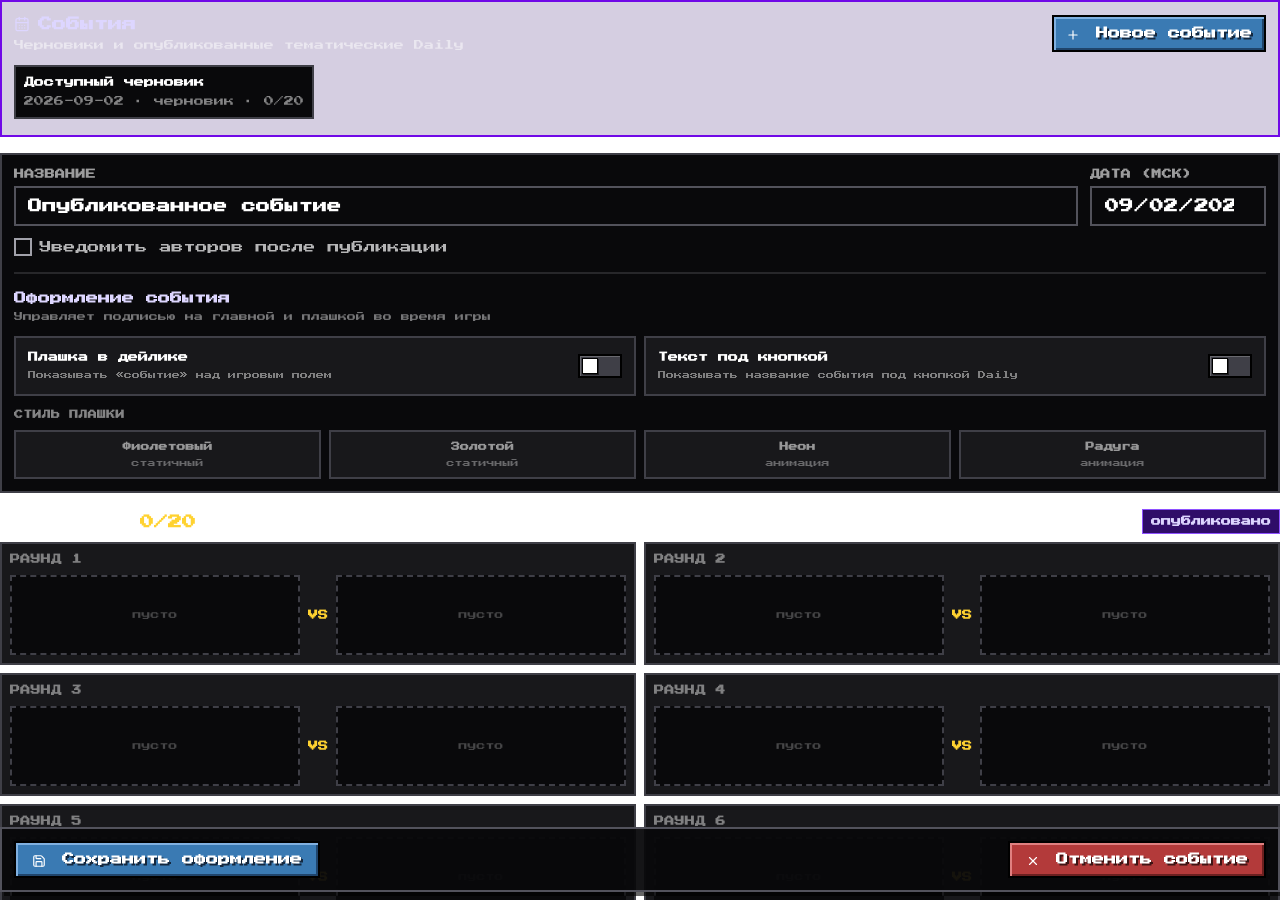
CustomDailyBuilder › keeps a bulk selection pending until a read-only event is replaced by a draft
Expected: the field showing "Опубликованное событие" is shown, x1=14 y1=186 x2=1078 y2=226
Expected: the text "Альфа" is not shown
Click the button "Доступный черновик 2026-09-02 · черновик · 0/20": (114, 82) x1=14 y1=65 x2=314 y2=119
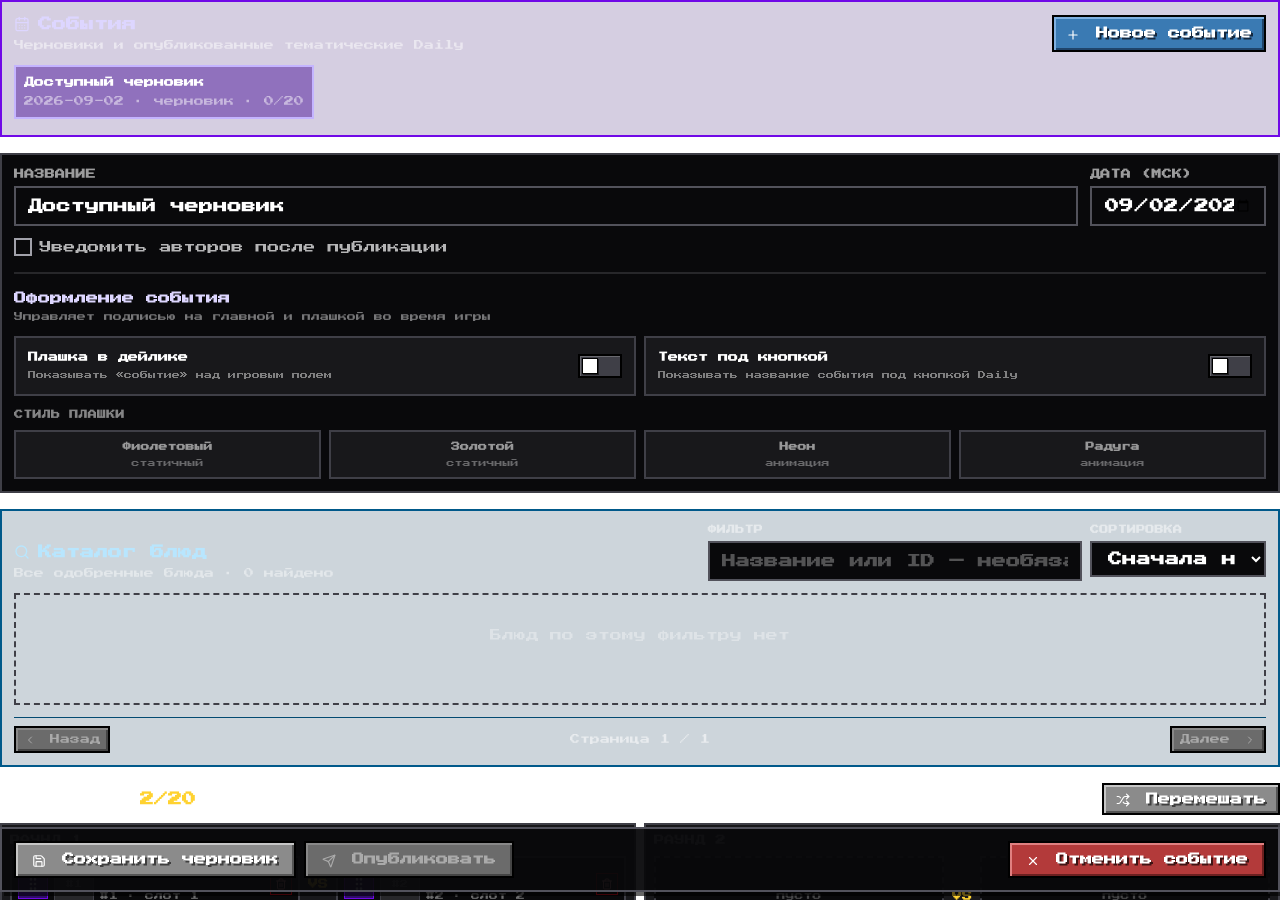
Result: the text "Альфа" is shown at x1=100 y1=867 x2=150 y2=877
Result: the text "2/20" is shown at x1=140 y1=792 x2=196 y2=806
